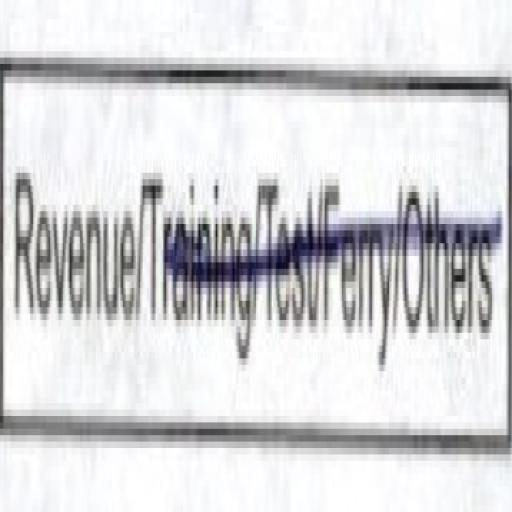check: (0, 26, 140, 460)
